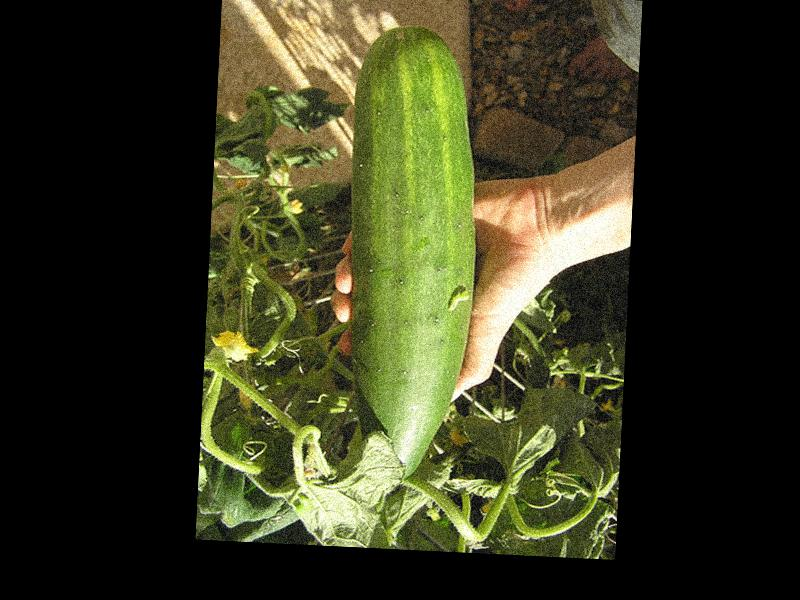Cucumber: (335, 23, 486, 487)
